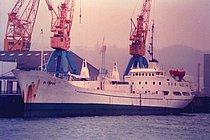Ship: (12, 60, 199, 119)
